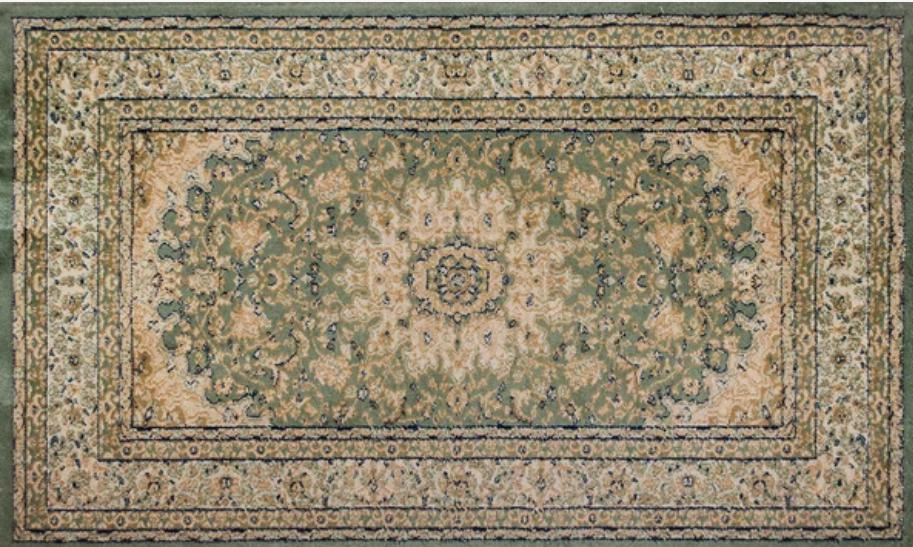carpet: (0, 5, 913, 540)
